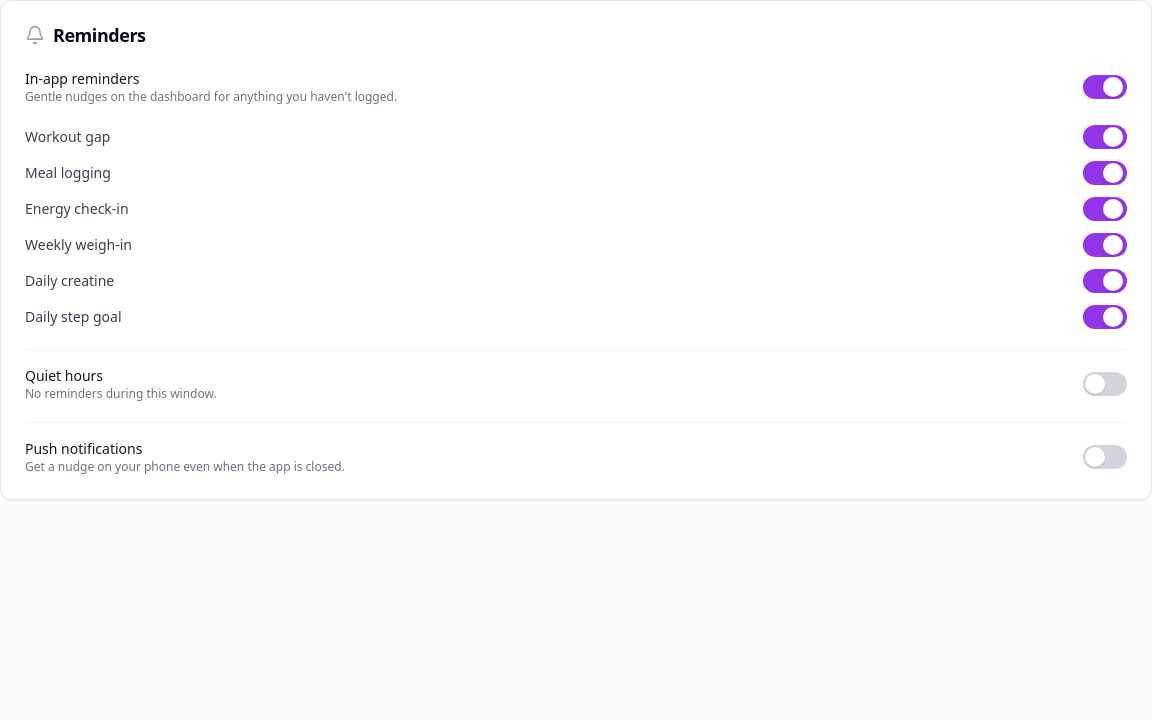
Test: ReminderSettingsCard › reveals the quiet-hours pickers when quiet hours are enabled
This screenshot has width=1152, height=720.
Expected: the field labelled "from" is not shown
Click the switch named "enable quiet hours". click: (1105, 384)
box: [1083,372,1127,396]
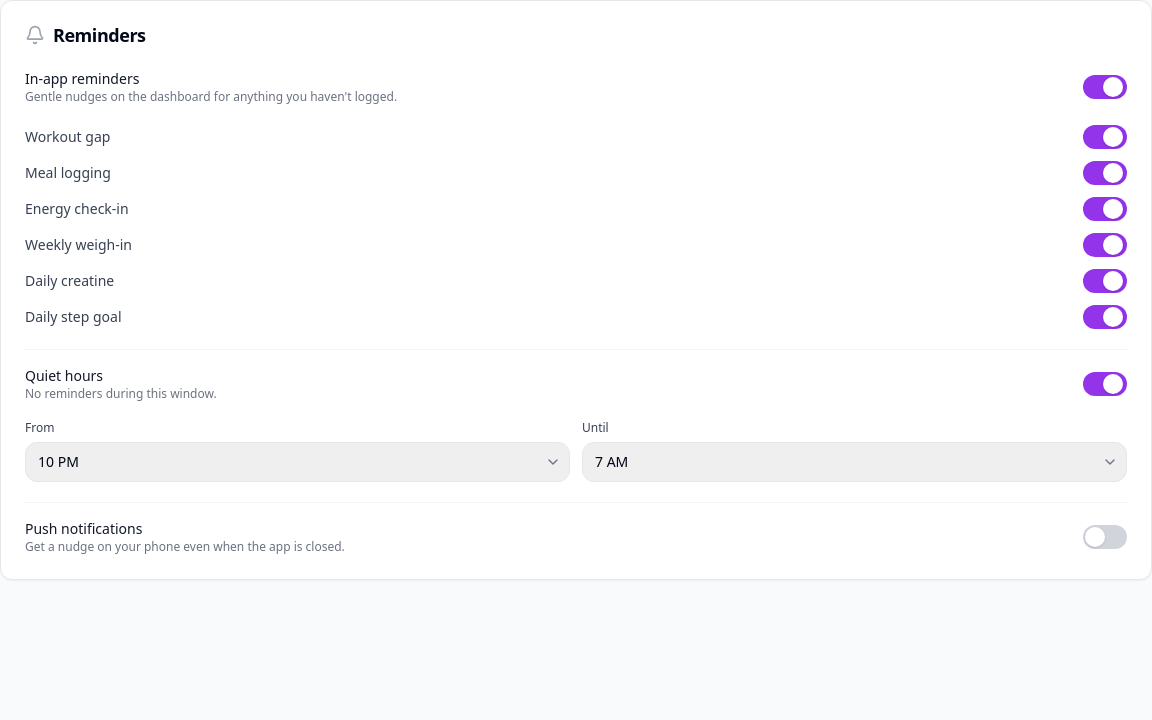
Expected: the dropdown labelled "From" is shown, [25,442,570,482]
Expected: the dropdown labelled "Until" is shown, [582,442,1127,482]
